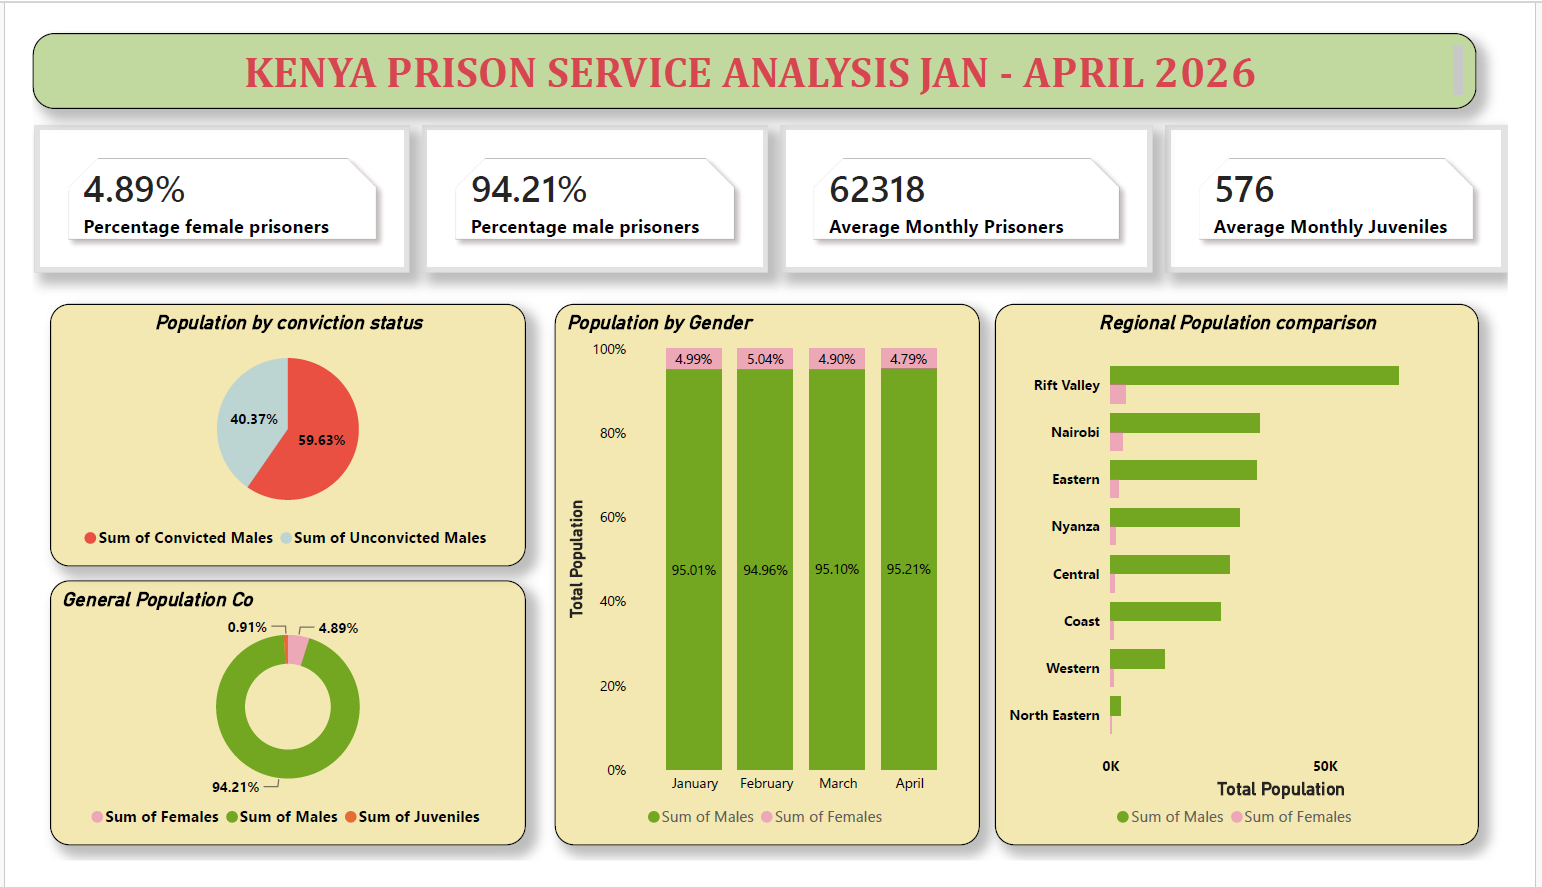

The page's visual inventory and layout, read from the dashboard file:
{"tool":"powerbi","page":{"name":"Page 1","canvas":[1280,720],"ordinal":0},"visuals":[{"type":"cardVisual","fields":{"Data":["kps_1.Percentage female prisoners"]},"box":[1.7,81.7,325,128.3],"z":0},{"type":"cardVisual","fields":{"Data":["kps_1.Percentage male prisoners"]},"box":[337.8,81.7,300,128.3],"z":1000},{"type":"cardVisual","fields":{"Data":["kps_1.Average Monthly Juveniles"]},"box":[983.3,81.7,296.7,128.3],"z":2000},{"type":"hundredPercentStackedColumnChart","title":"Population by Gender","fields":{"Category":["kps_1.Month.Variation.Date Hierarchy.Month"],"Y":["Sum(kps_1.Males)","Sum(kps_1.Females)"]},"box":[453.3,236.7,368.3,470],"z":3000},{"type":"clusteredBarChart","title":"Regional Population comparison ","fields":{"Category":["kps_1.Region"],"Y":["Sum(kps_1.Males)","Sum(kps_1.Females)"]},"box":[835,236.7,420,470],"z":4000},{"type":"pieChart","title":"Population by conviction status","fields":{"Y":["Sum(kps_1.Convicted Males)","Sum(kps_1.Unconvicted Males)"]},"box":[15,236.7,413.3,228.3],"z":5000},{"type":"donutChart","title":"General Population Co","fields":{"Y":["Sum(kps_1.Females)","Sum(kps_1.Males)","Sum(kps_1.Juveniles)"]},"box":[15,476.7,413.3,230],"z":6000},{"type":"textbox","box":[0,1.7,1253.3,66.7],"z":7000},{"type":"cardVisual","fields":{"Data":["kps_1.Average Monthly Prisoners"]},"box":[648.9,81.7,323.3,128.3],"z":8000}]}

Visuals, with their boxes in screenshot pixels (x1, y1, x2, y2), scaled from the page's 1280x720 canvas onto the 1542x887 screenshot:
cardVisual - kps_1.Percentage female prisoners: Rect(2, 101, 394, 259)
cardVisual - kps_1.Percentage male prisoners: Rect(407, 101, 768, 259)
cardVisual - kps_1.Average Monthly Juveniles: Rect(1185, 101, 1541, 259)
"Population by Gender" hundredPercentStackedColumnChart: Rect(546, 292, 990, 871)
"Regional Population comparison " clusteredBarChart: Rect(1006, 292, 1512, 871)
"Population by conviction status" pieChart: Rect(18, 292, 516, 573)
"General Population Co" donutChart: Rect(18, 587, 516, 871)
textbox: Rect(0, 2, 1510, 84)
cardVisual - kps_1.Average Monthly Prisoners: Rect(782, 101, 1171, 259)
